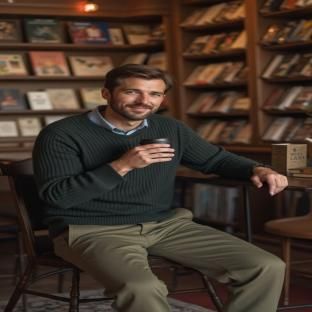Human: (32, 64, 287, 312)
